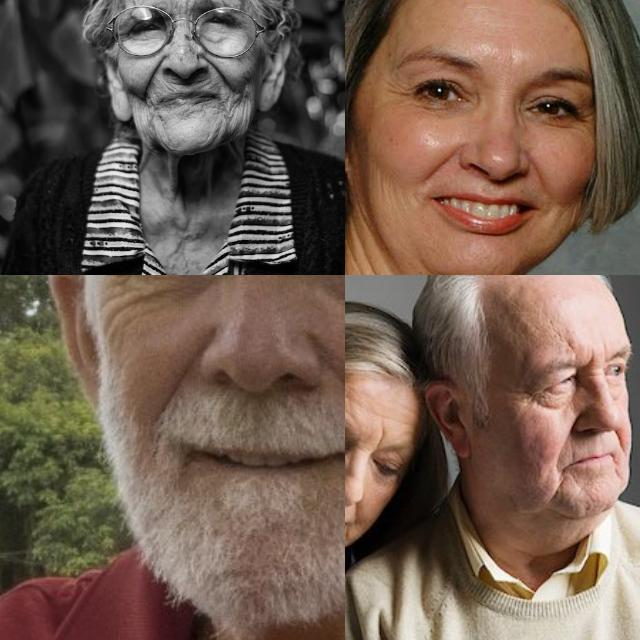crows_feet: (384, 73, 412, 114), (104, 275, 140, 293), (518, 386, 538, 406)
frown_line: (372, 423, 390, 452), (585, 347, 599, 368)
gummy_smile: (158, 344, 200, 416), (422, 135, 456, 187), (324, 347, 345, 422), (204, 52, 236, 86), (524, 150, 550, 190), (144, 54, 166, 100), (614, 424, 628, 456)
masseter: (368, 164, 408, 212), (228, 98, 252, 128), (142, 113, 166, 143)
sad_smile: (548, 472, 566, 503)
